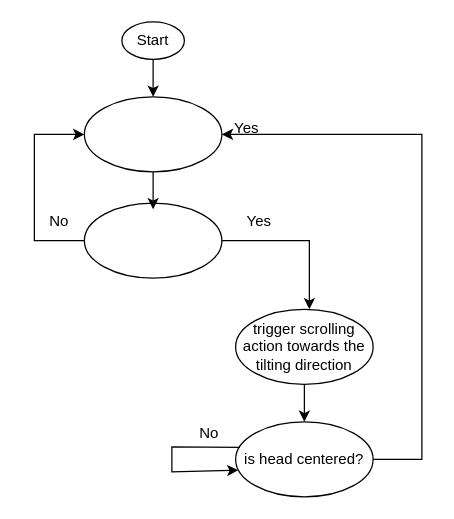
This 454x519 diagram has some shape labels left out. Each missing label, with the centre of its shape:
"is head tilted?" belongs at [152,240].
"perform actions to check head tilt" belongs at [152,134].
